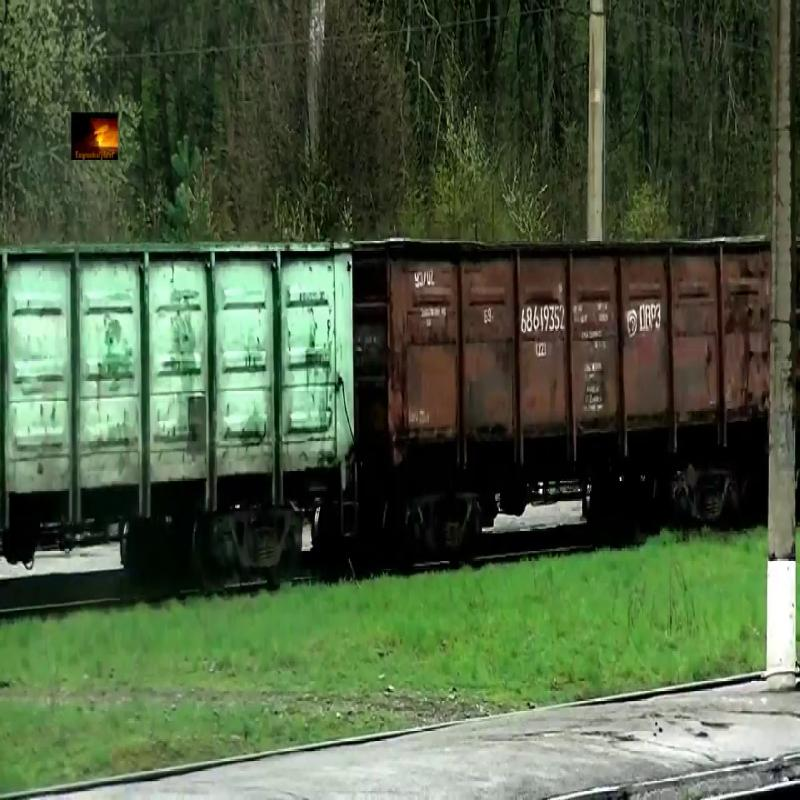train: (1, 239, 355, 528), (355, 245, 776, 476)
